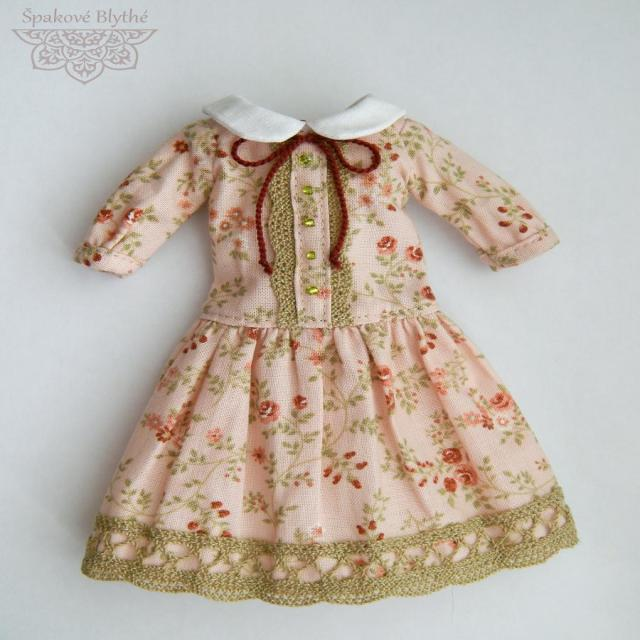Dress: (73, 91, 582, 599)
